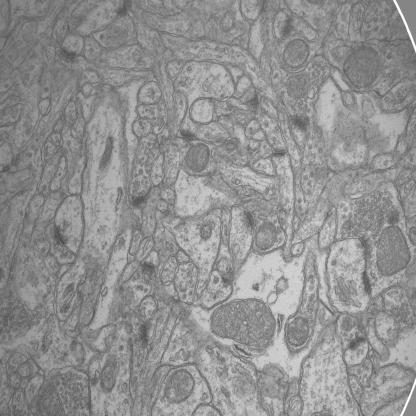mitochondria: (207, 295, 278, 353), (375, 222, 411, 279), (342, 44, 382, 92), (163, 366, 195, 406), (282, 36, 310, 74), (252, 216, 278, 252), (184, 141, 210, 174), (285, 314, 310, 348)
